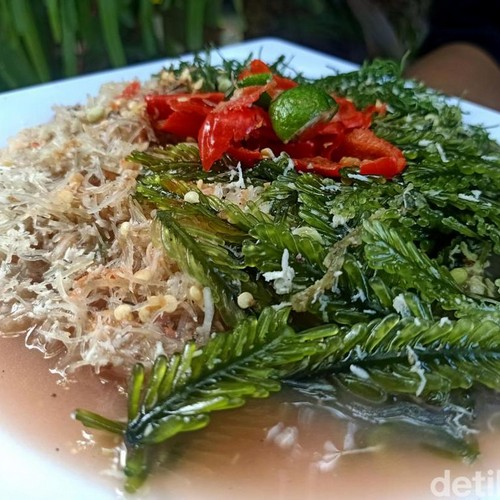bulung buni: (26, 49, 487, 462)
